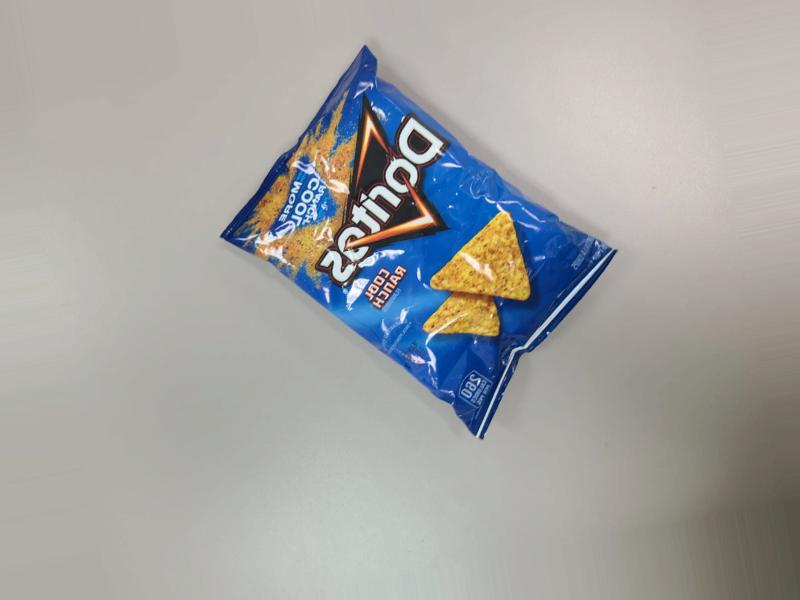doritos: (229, 12, 603, 472)
